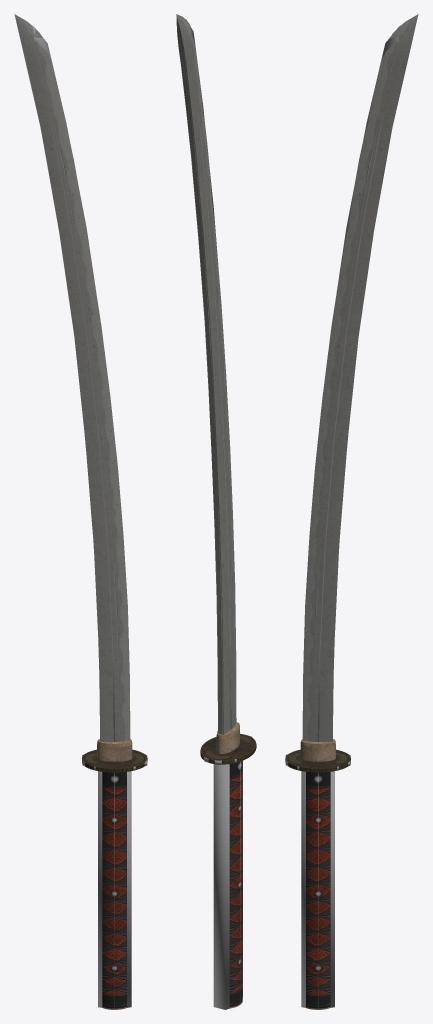
File: SM_katana.FBX
3 renders of one model, left to right at view 1: azimuth 90°, elevation 25°; view 2: azimuth 150°, elevation 25°; view 3: azimuth 270°, elevation 25°, orthographic. The views are drawn at different scales.
Visible parts, largest first — view 1: katana, katana_UCX; view 2: katana, katana_UCX; view 3: katana, katana_UCX.
Part boxes in pixels (x1,y1,x2,y2): katana: (14,14,147,1009); katana_UCX: (17,25,147,1009); katana: (176,14,256,1008); katana_UCX: (177,19,256,1009); katana: (285,14,418,1009); katana_UCX: (285,25,415,1009).
Size of the model in its own units: 5.36 by 119 by 14.49.
2 materials, 1 textured.
